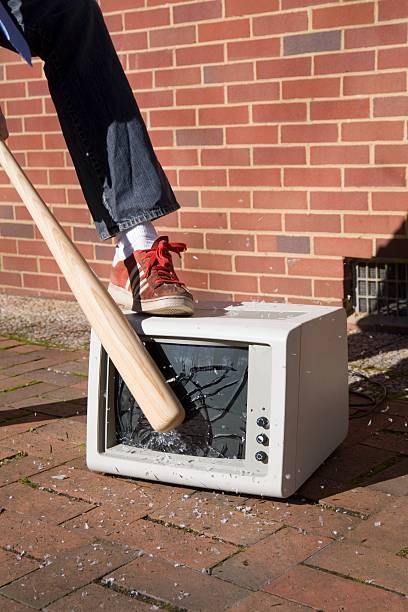bita: (1, 142, 183, 430)
